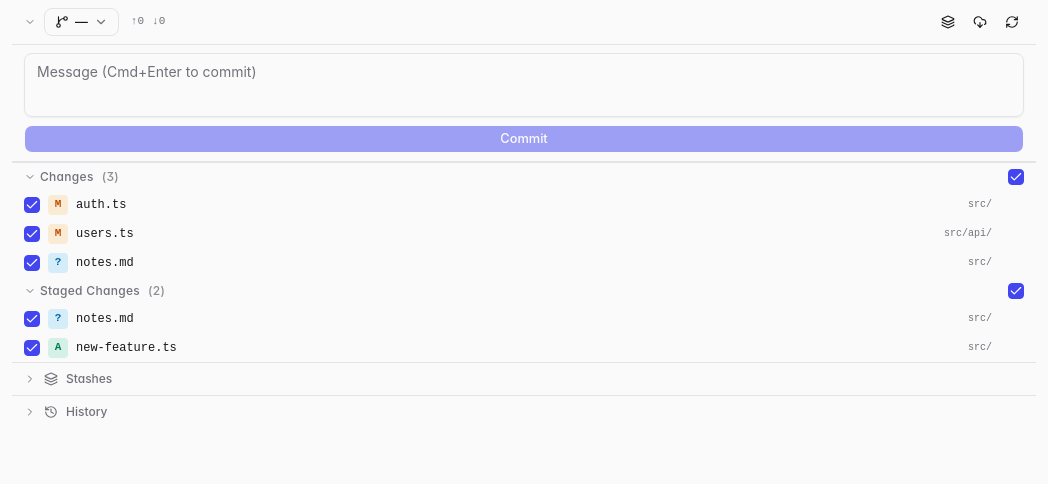
Test: SourceControlPanel › history disclosure is collapsed by default and toggles open on click
The width and height of the screenshot is (1048, 484).
Step 1. Click the button with test id "scm-history-toggle" → (87, 412), box [12,396,1036,428]
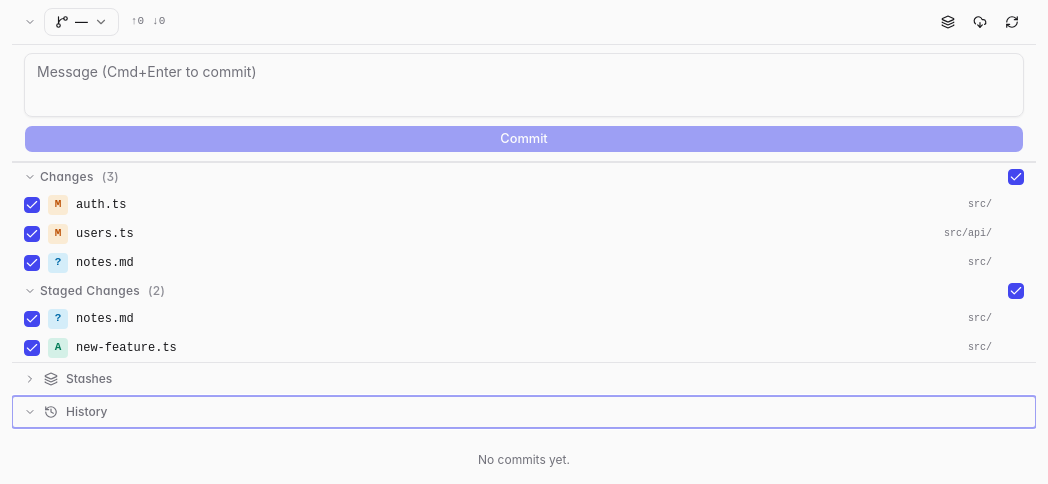
Result: the element with test id "scm-history" is shown at [478,452,570,467]
